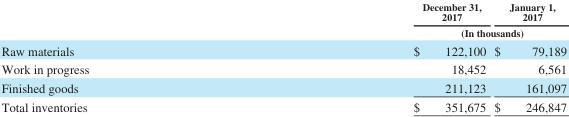table: (0, 0, 566, 114)
table column: (0, 0, 250, 114), (250, 0, 489, 114), (489, 0, 566, 114)
table column header: (0, 0, 566, 40)
table row: (0, 0, 566, 24), (0, 40, 566, 59), (0, 59, 566, 78), (0, 78, 566, 97), (0, 97, 566, 114), (0, 24, 566, 40)
table spanning cell: (250, 24, 566, 40)
